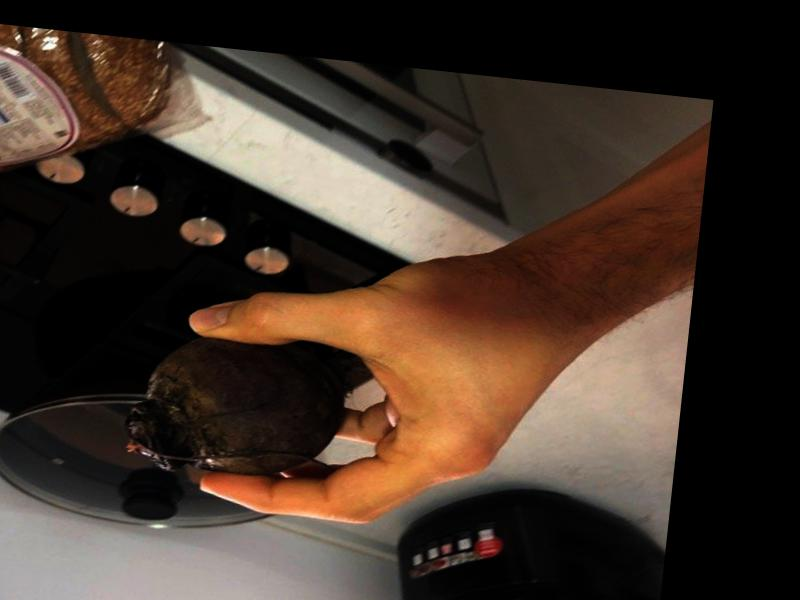Beet: (121, 328, 363, 486)
